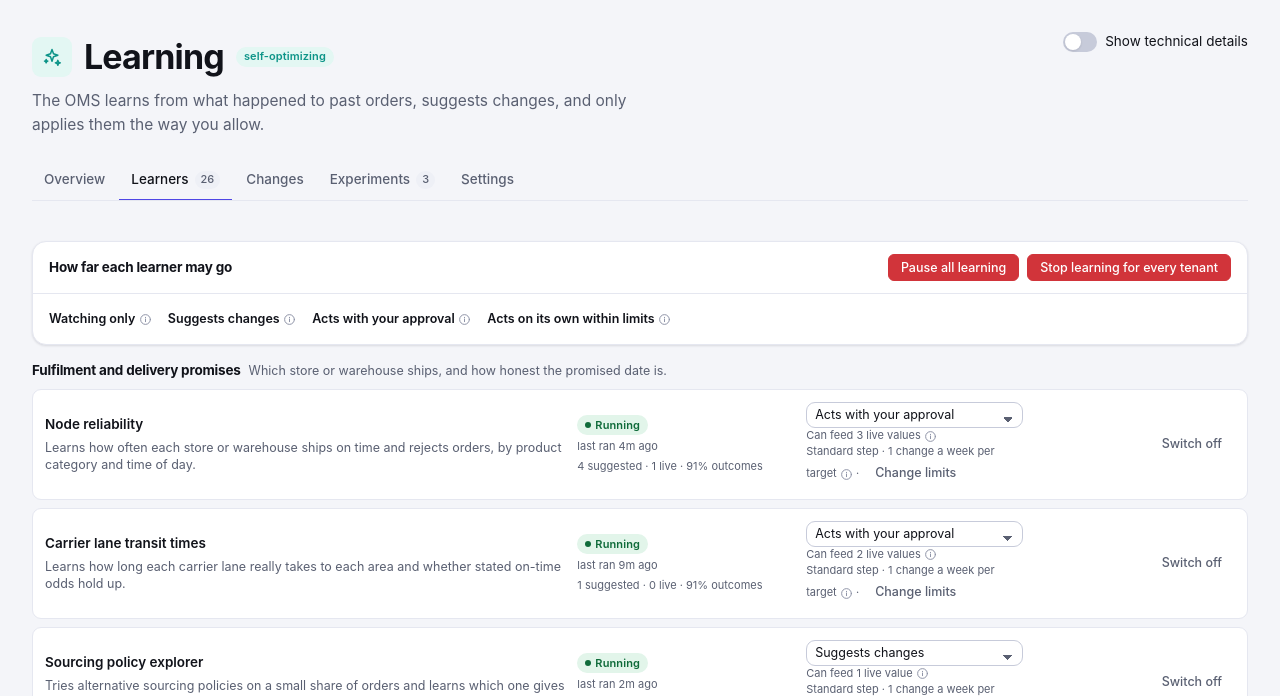
Scenario: Learning Console › lets only a platform engineer stop learning for every tenant
Expected: the button "Pause all learning" is shown, [888, 254, 1019, 281]
Click the button "Stop learning for every tenant" at x=1129, y=268, box [1027, 254, 1231, 281]
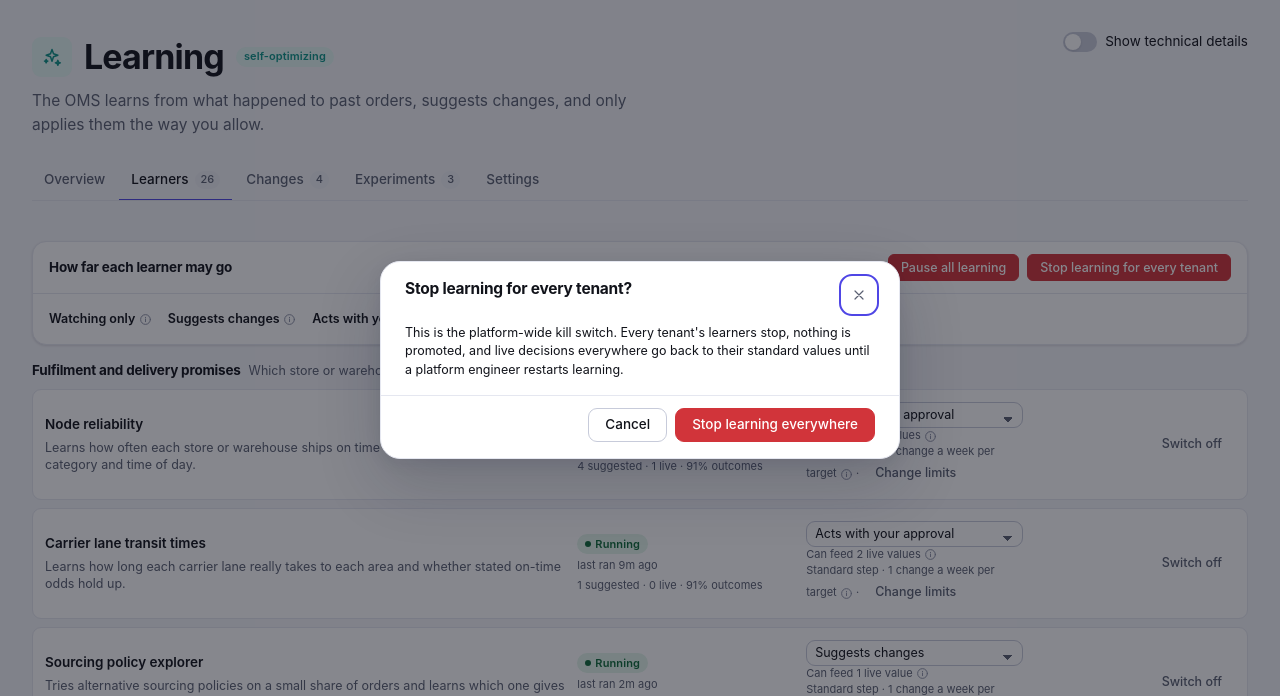
Click the button "Stop learning everywhere" at x=775, y=425, box [675, 408, 875, 442]
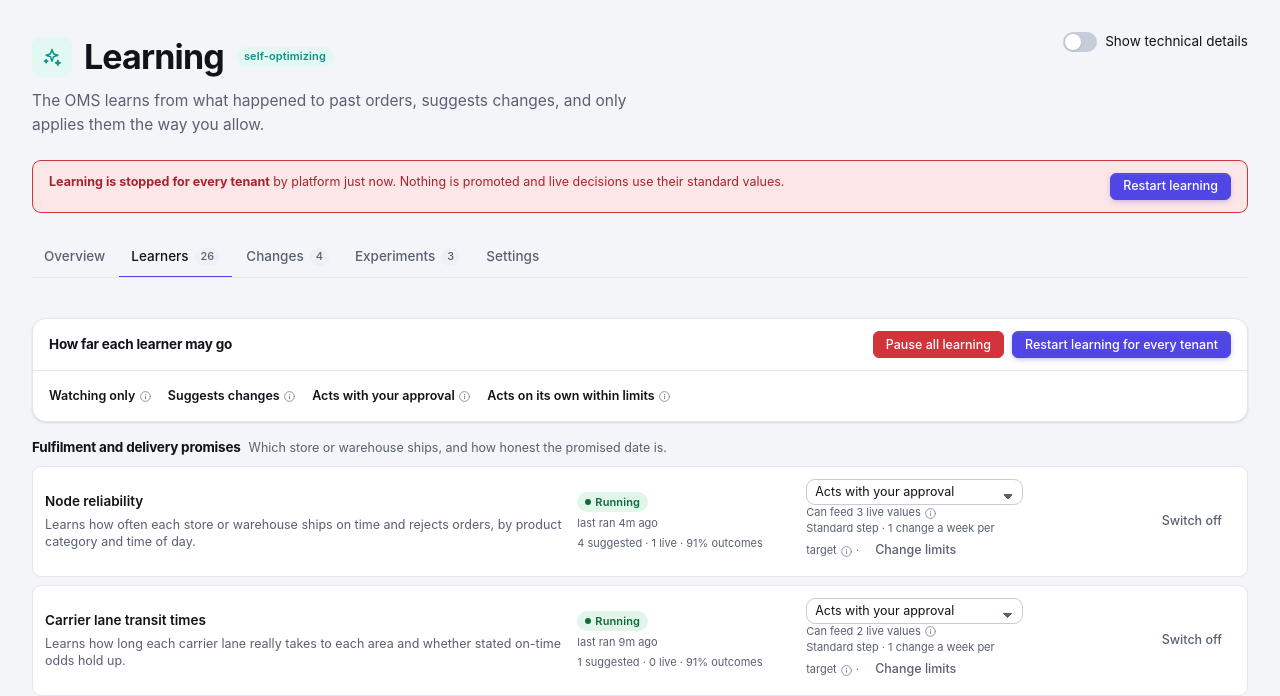
Now the message with test id "global-kill-switch" shows "Learning is stopped for every tenant", box [49, 174, 270, 189]
Click the button "Restart learning" at x=1171, y=186, box [1110, 173, 1231, 200]
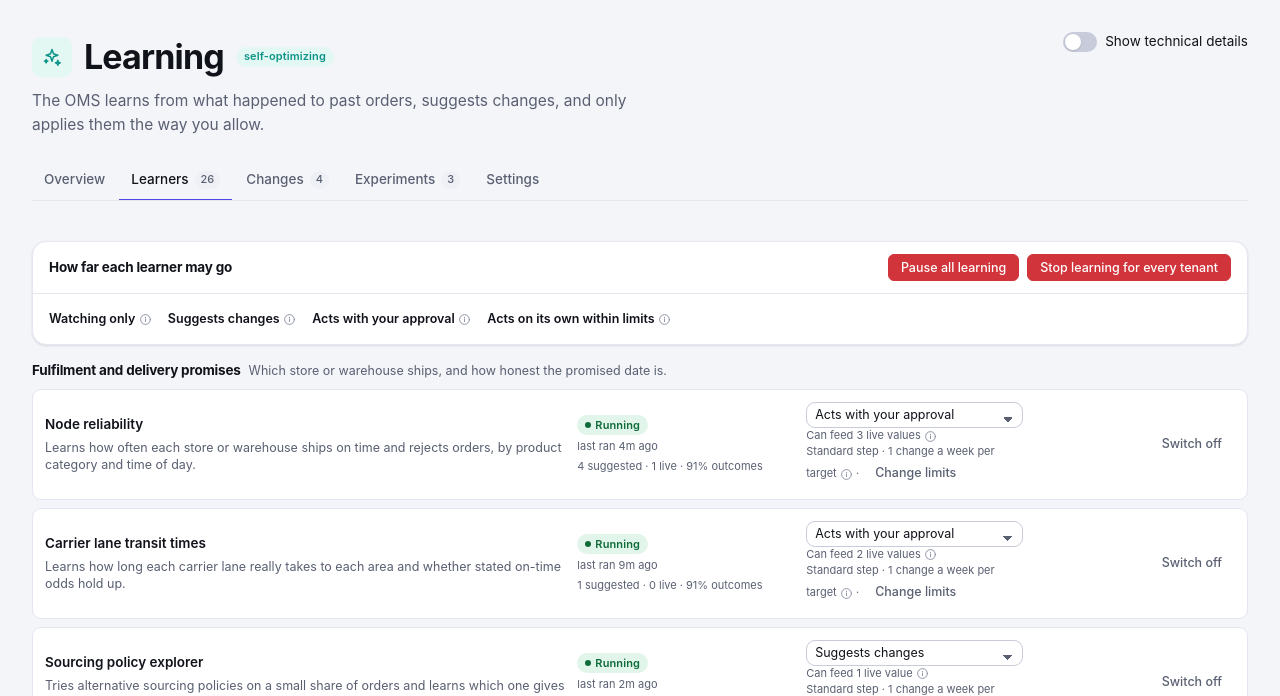
Now the button "Stop learning for every tenant" is shown, box [1027, 254, 1231, 281]
